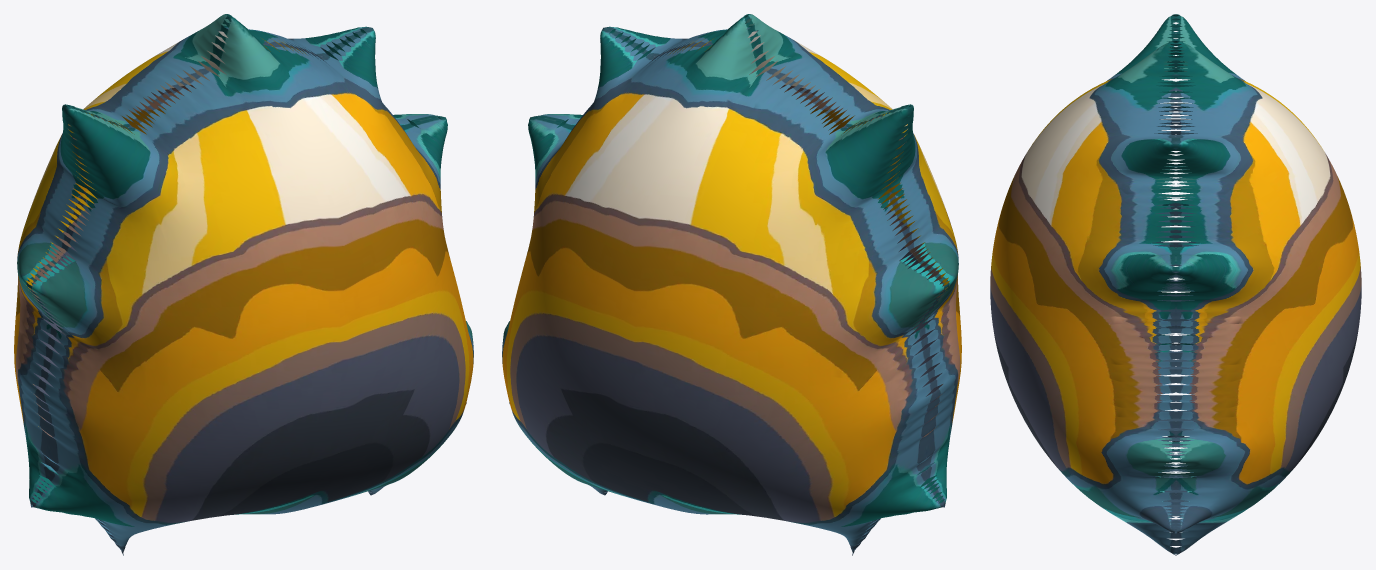
File: gate_conduit.glb
3 views of the same model, side by side, from view 1: azimuth 30°, elevation 25°; view 2: azimuth 150°, elevation 25°; view 3: azimuth 270°, elevation 25° (orthographic). The views are drawn at different scales.
Visible parts, largest first — view 1: gate_conduit; view 2: gate_conduit; view 3: gate_conduit.
Boxes of the visible parts, box(x1,y1,x2,y2) form: gate_conduit: box(14, 14, 473, 555); gate_conduit: box(502, 14, 961, 555); gate_conduit: box(990, 14, 1361, 555).
Size of the model in its own units: 0.9871 by 1.11 by 0.8213.
Materials: 1 (1 with a texture image).
